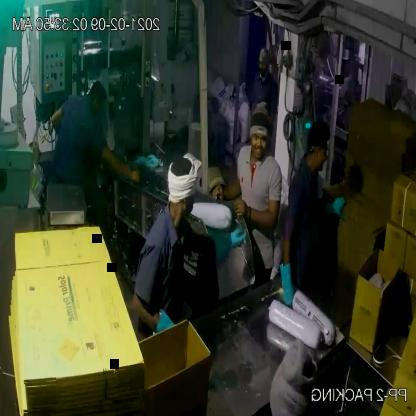glove: (274, 254, 302, 316), (317, 189, 351, 228)
no_glove: (94, 136, 147, 192), (231, 190, 286, 235), (212, 173, 245, 208)
